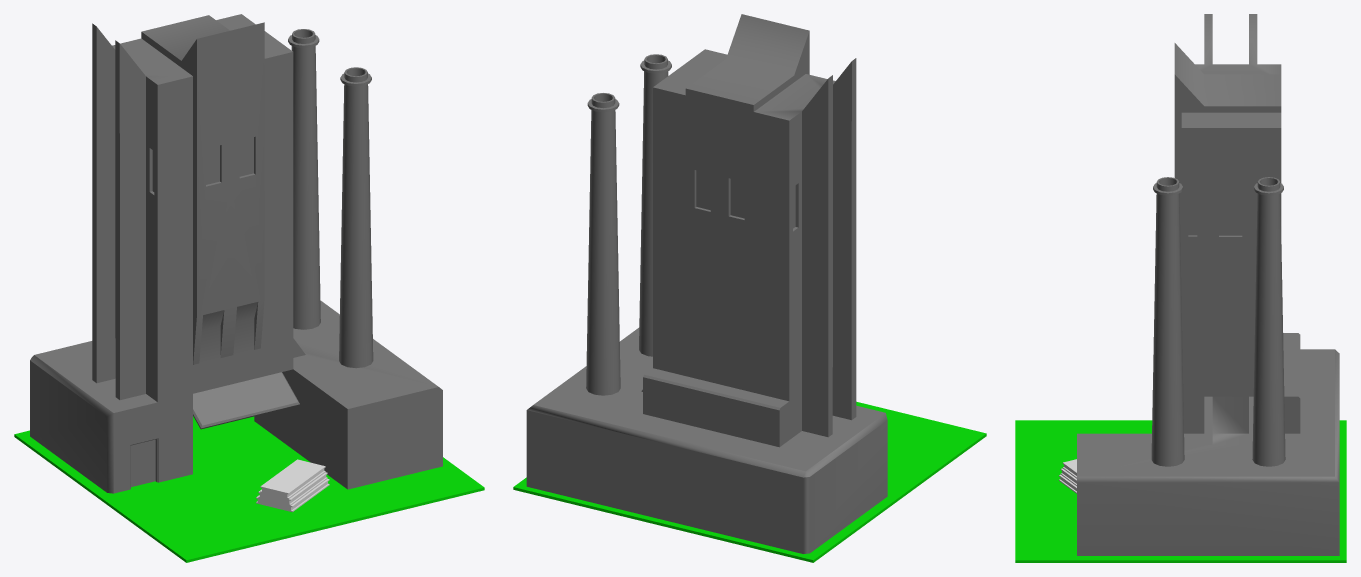
File: Factory Model Final.fbx
The picture shows the model from 3 angles, left to right: view 1: azimuth 30°, elevation 25°; view 2: azimuth 150°, elevation 25°; view 3: azimuth 270°, elevation 25°; orthographic projection. The views are drawn at different scales.
Parts seen in each view (by area): view 1: Factory_Low_C; view 2: Factory_Low_C; view 3: Factory_Low_C.
Part boxes in pixels (<box>): Factory_Low_C: <box>14,14,484,562</box>; Factory_Low_C: <box>513,14,986,562</box>; Factory_Low_C: <box>1015,14,1346,562</box>.
Size of the model in its own units: 593 by 838 by 593.
